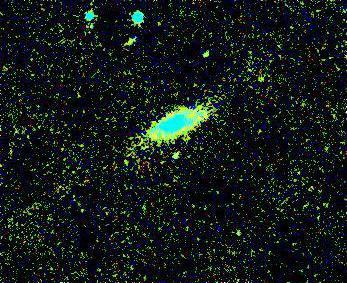star: (145, 15, 175, 45)
